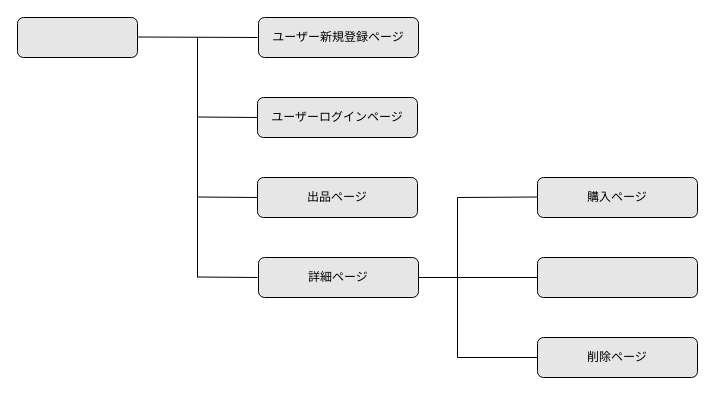
Some shapes in this 715 by 395 pixel diagram are drawn without their labels. Here are the shapes that lost their labels. From the top down, the centre of each, then its label:
At pixel 77 37: "TOPページ".
At pixel 617 277: "編集ページ".
